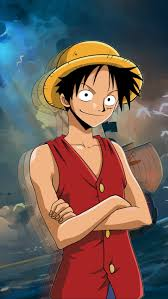luffy: (22, 41, 155, 299)
